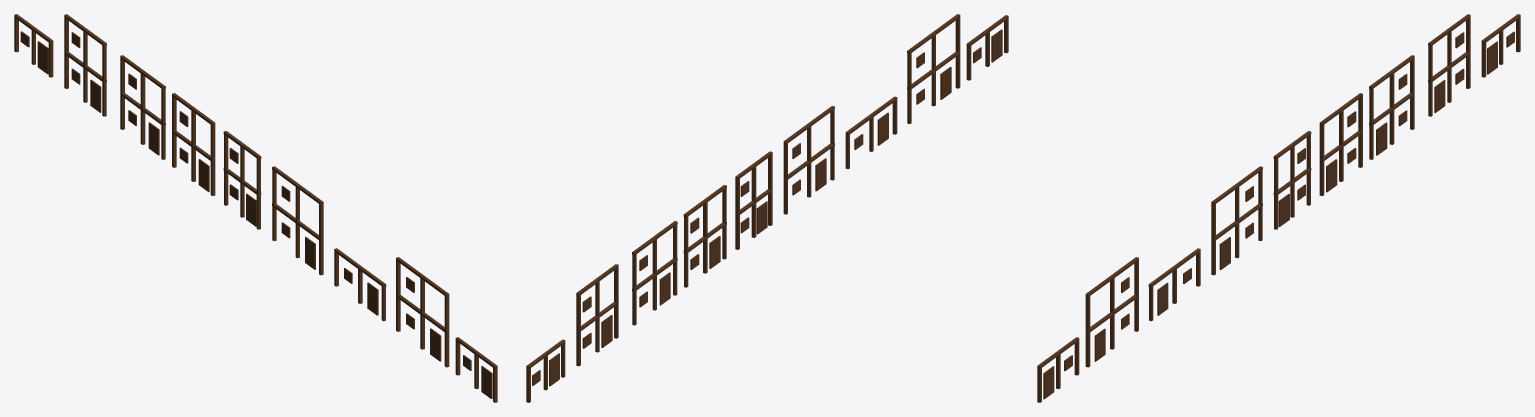
Rendered from HouseTimberW.fbx.
The picture shows the model from 3 angles, left to right: view 1: azimuth 30°, elevation 25°; view 2: azimuth 150°, elevation 25°; view 3: azimuth 330°, elevation 25°; orthographic projection.
Visible parts, largest first — view 1: PostW0_-7.001; view 2: PostW0_-7.001; view 3: PostW0_-7.001.
Part boxes in pixels (box(x1,y1,x2,y2)): PostW0_-7.001: box(14, 14, 497, 402); PostW0_-7.001: box(526, 14, 1008, 402); PostW0_-7.001: box(1037, 14, 1520, 402).
Bounding box in the file's own units: 70 × 1700 × 20300.
